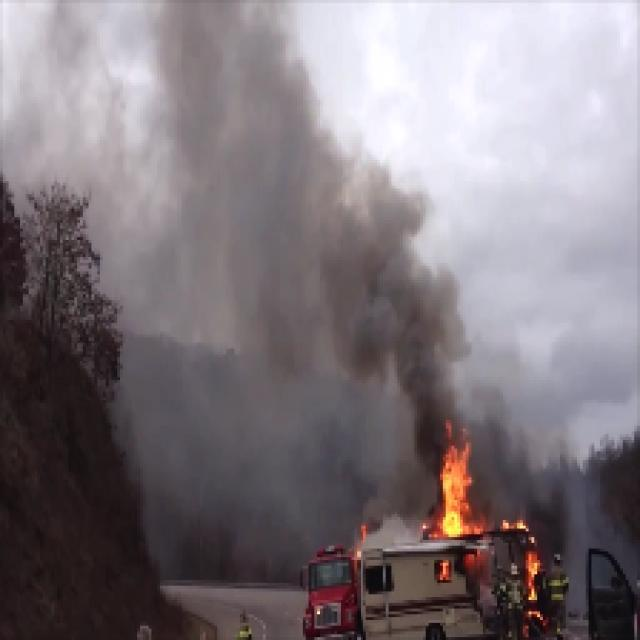Fire: (439, 448, 474, 530)
Smoke: (282, 140, 378, 350), (408, 290, 456, 430)
